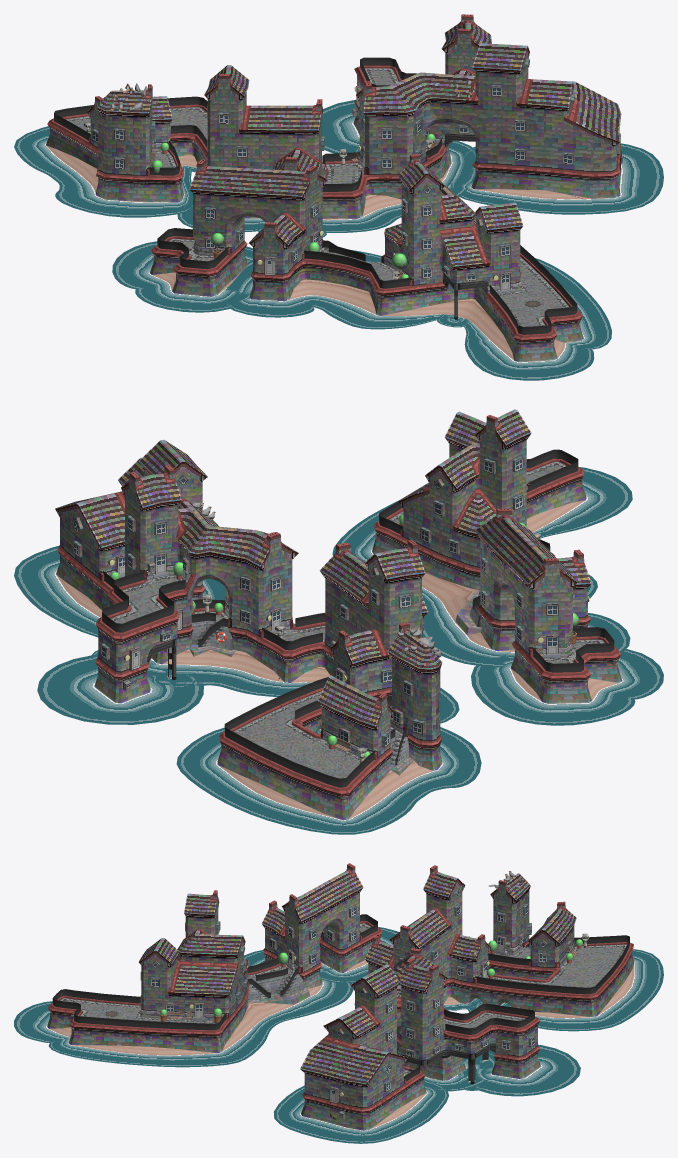
The picture shows the model from 3 angles, top to bottom: view 1: azimuth 30°, elevation 25°; view 2: azimuth 150°, elevation 25°; view 3: azimuth 270°, elevation 25°; orthographic projection. The views are drawn at different scales.
Visible parts, largest first — view 1: Townacuj7r8YSSdYS3wl; view 2: Townacuj7r8YSSdYS3wl; view 3: Townacuj7r8YSSdYS3wl.
Boxes of the visible parts, x1,y1,x2,y2 form: Townacuj7r8YSSdYS3wl: (14,14,663,380); Townacuj7r8YSSdYS3wl: (14,409,663,834); Townacuj7r8YSSdYS3wl: (14,863,663,1143).
Size of the model in its own units: 16.8 by 4.28 by 21.11.
1 material, 1 textured.
